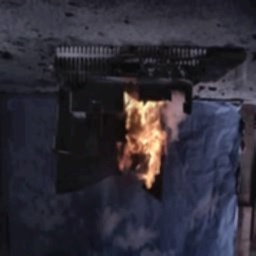fire: (116, 86, 174, 191)
